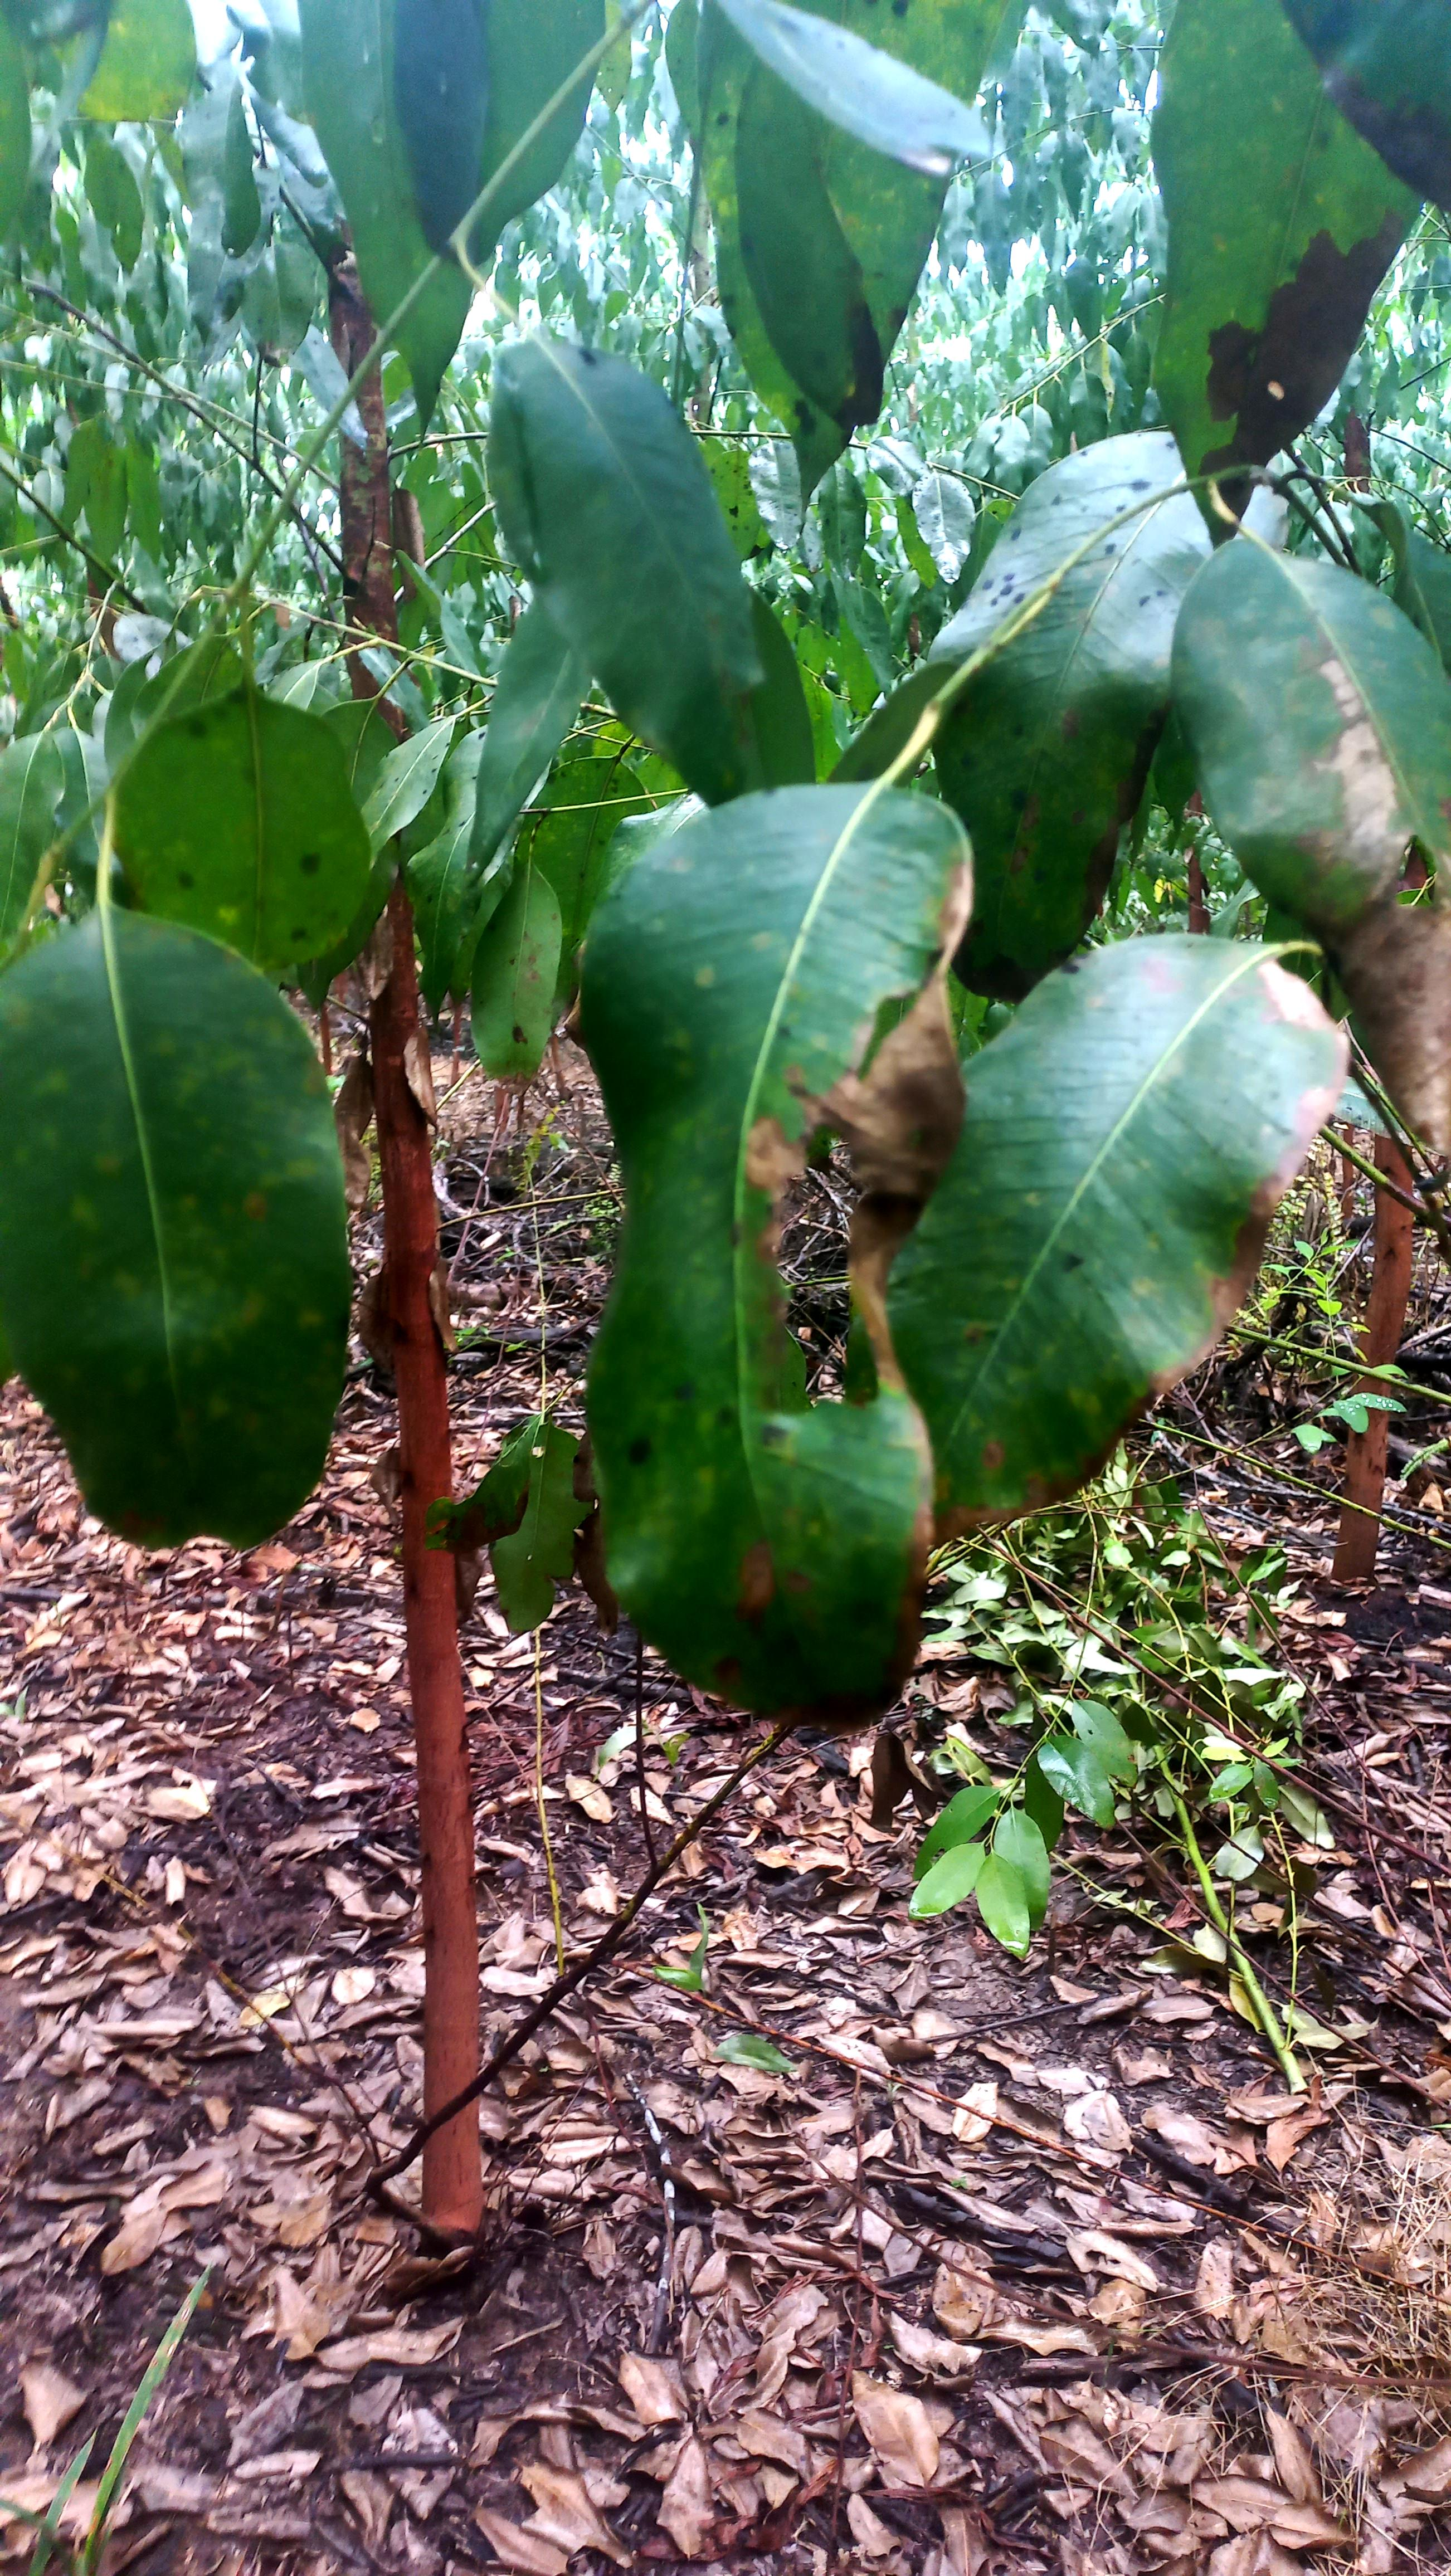Cylindrocladium: (729, 870, 1010, 1522), (1244, 669, 1451, 1201), (1216, 225, 1394, 502), (1327, 67, 1451, 228), (826, 251, 911, 435), (430, 1483, 527, 1568)
